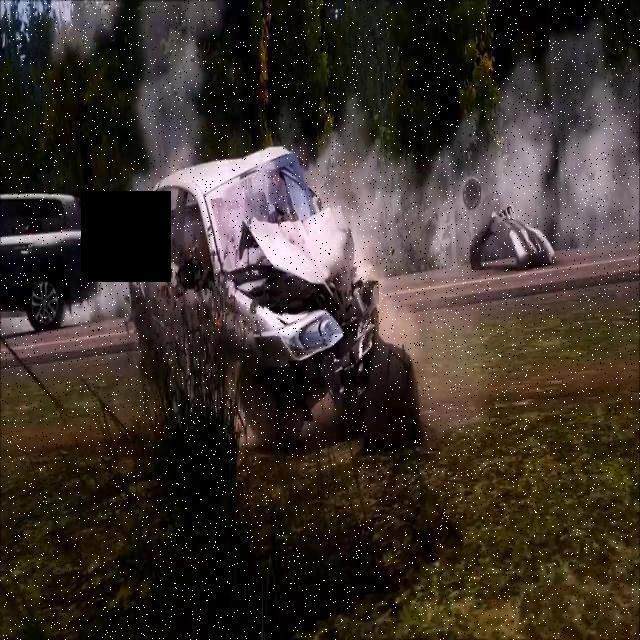vehicle: (100, 97, 410, 490)
